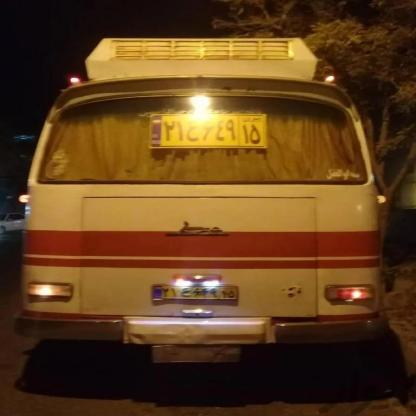Bus: (15, 38, 384, 342)
